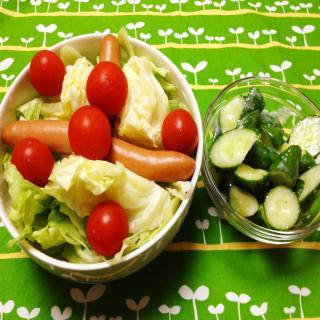tomato: (85, 62, 129, 116), (68, 104, 110, 160), (10, 138, 53, 188), (84, 201, 124, 249), (160, 108, 197, 157), (30, 50, 66, 98)
